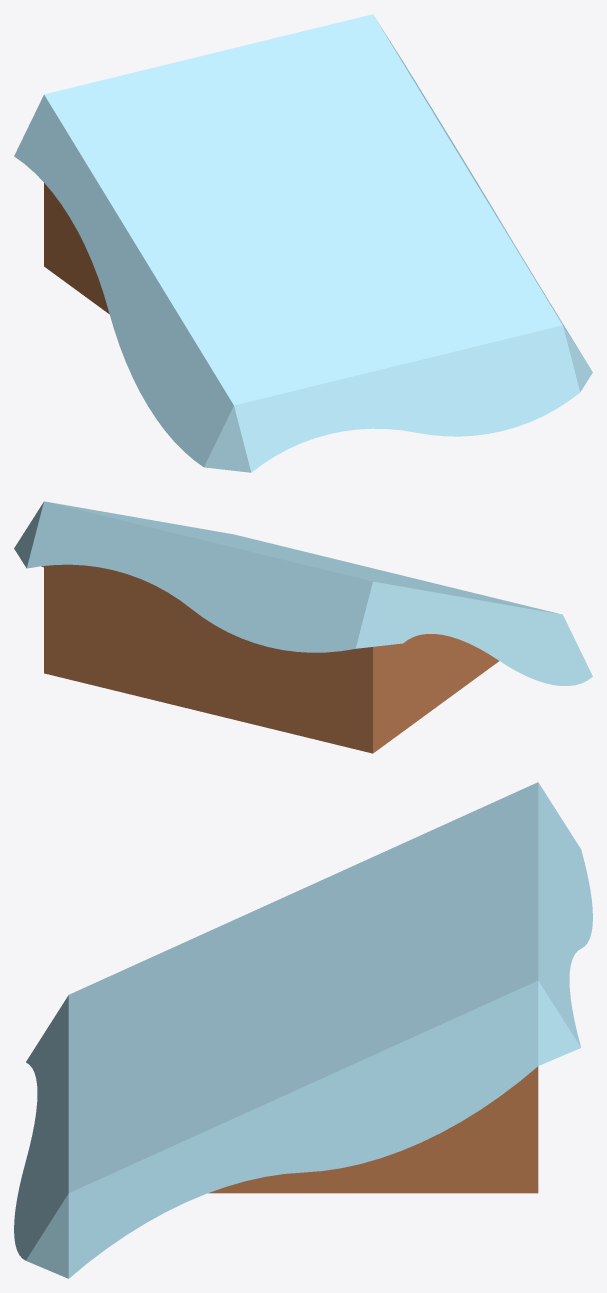
File: blockSnowSlopeHalf.fbx
The picture shows the model from 3 angles, top to bottom: view 1: azimuth 30°, elevation 25°; view 2: azimuth 150°, elevation 25°; view 3: azimuth 270°, elevation 25°; orthographic projection. The views are drawn at different scales.
Visible parts, largest first — view 1: blockSnowSlopeHalf; view 2: blockSnowSlopeHalf; view 3: blockSnowSlopeHalf.
Boxes of the visible parts, x1=… form: blockSnowSlopeHalf: x1=14, y1=14, x2=592, y2=472; blockSnowSlopeHalf: x1=14, y1=501, x2=592, y2=753; blockSnowSlopeHalf: x1=14, y1=782, x2=592, y2=1278.
Bounding box in the file's own units: 12.33 × 7.02 × 12.33.
